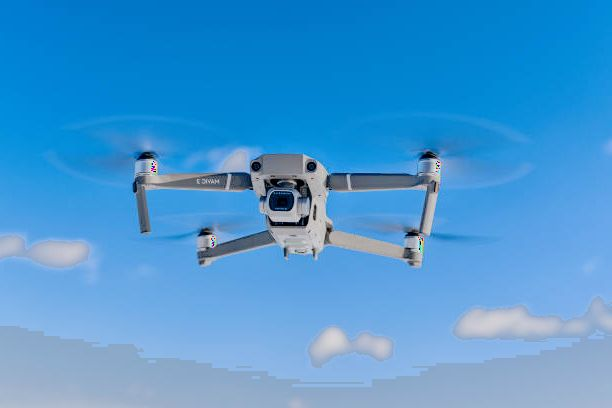Drone: (57, 114, 527, 273)
